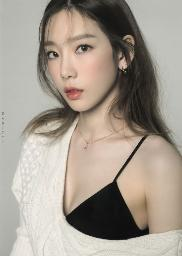face: (45, 17, 115, 111)
